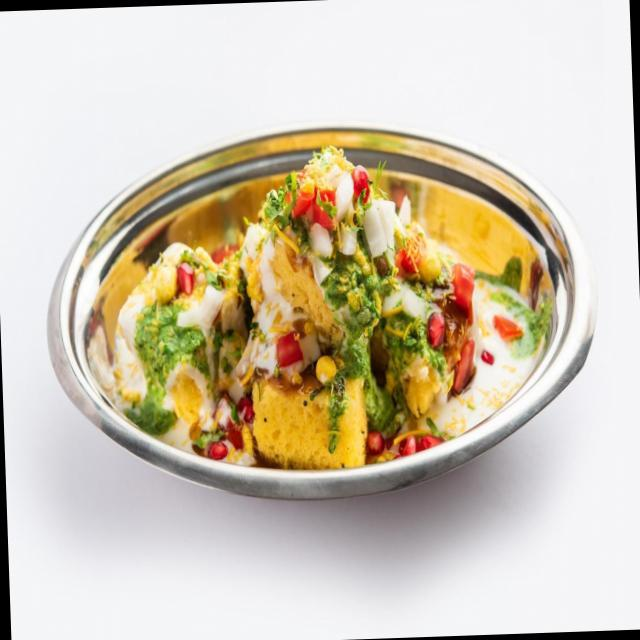dhokla: (84, 150, 527, 474)
